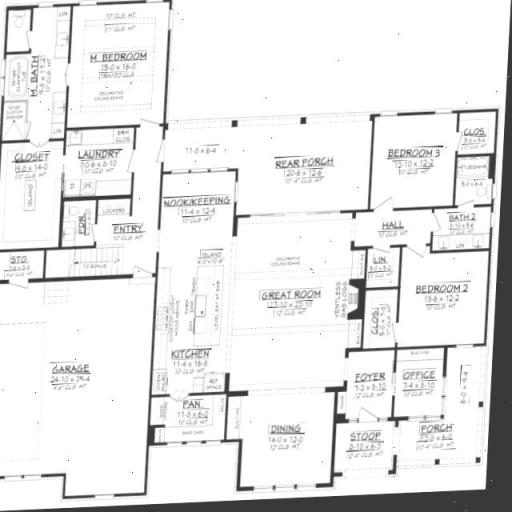Room: (238, 398, 332, 484)
bathroom: (11, 17, 60, 136), (438, 210, 489, 249)
bedroom: (76, 6, 159, 119), (400, 250, 486, 345), (381, 125, 449, 205)
garage: (8, 290, 140, 496)
hall: (235, 227, 349, 387)
kitchen: (162, 198, 228, 400)
laundary: (72, 132, 128, 197)
porch: (225, 130, 376, 208), (409, 424, 475, 472)
